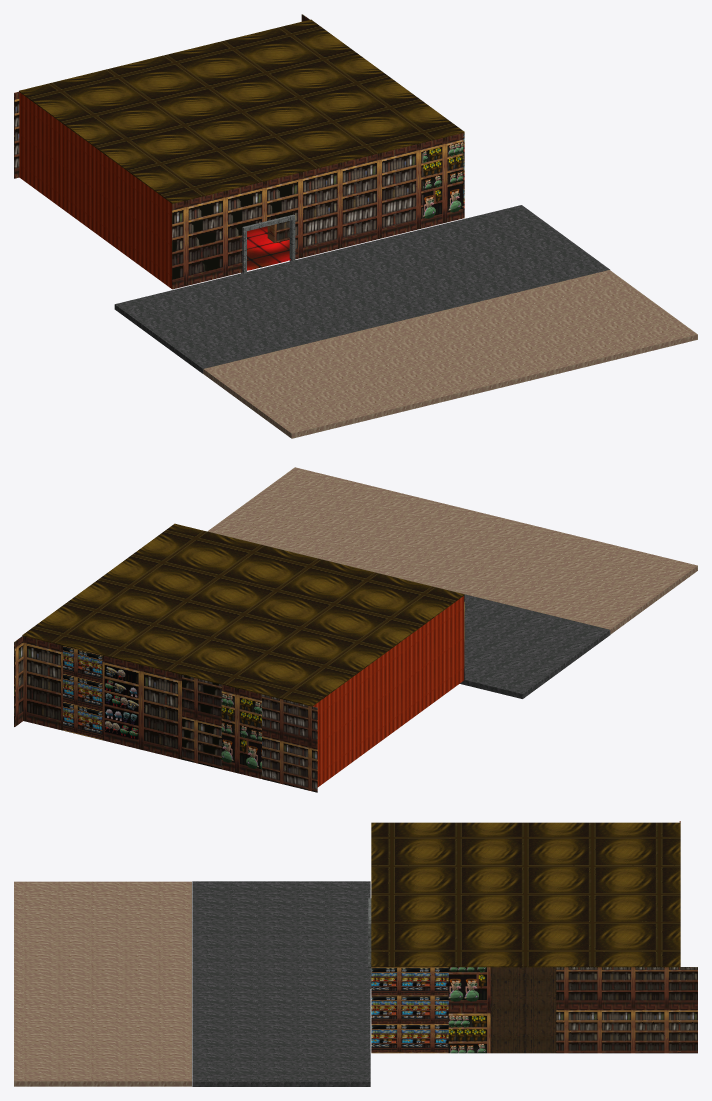
The model's file is Dutyfree_brush.glb.
3 views of the same model, one above another, from view 1: azimuth 30°, elevation 25°; view 2: azimuth 150°, elevation 25°; view 3: azimuth 270°, elevation 25° (orthographic).
Visible parts, largest first — view 1: Dutyfree; view 2: Dutyfree; view 3: Dutyfree.
Part boxes in pixels (x1,y1,x2,y2): Dutyfree: (14, 14, 697, 438); Dutyfree: (14, 467, 697, 792); Dutyfree: (14, 821, 697, 1086).
Size of the model in its own units: 1814 by 450 by 2618.
Materials: 15 (15 with a texture image).
